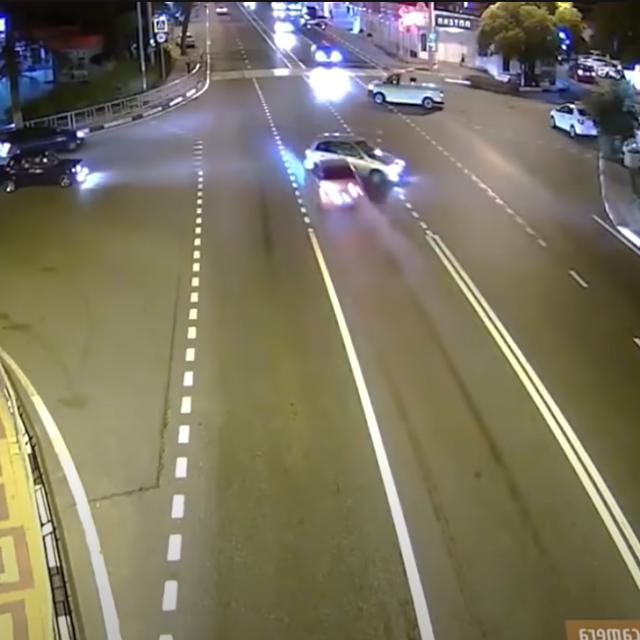accident: (304, 131, 408, 213)
non-accident: (0, 121, 90, 193), (575, 53, 625, 85)
